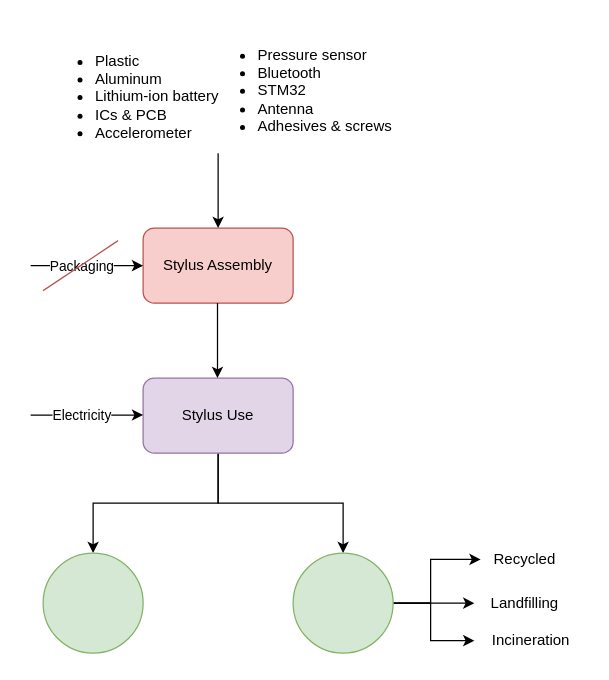
This 609x680 diagram has some shape labels left out. The shapes that lost their labels are listed below. From the top down, each one's centre as x and y in pixels, then its label:
At (92,602): "Close the gap initiative".
At (342,602): "Renewi".
